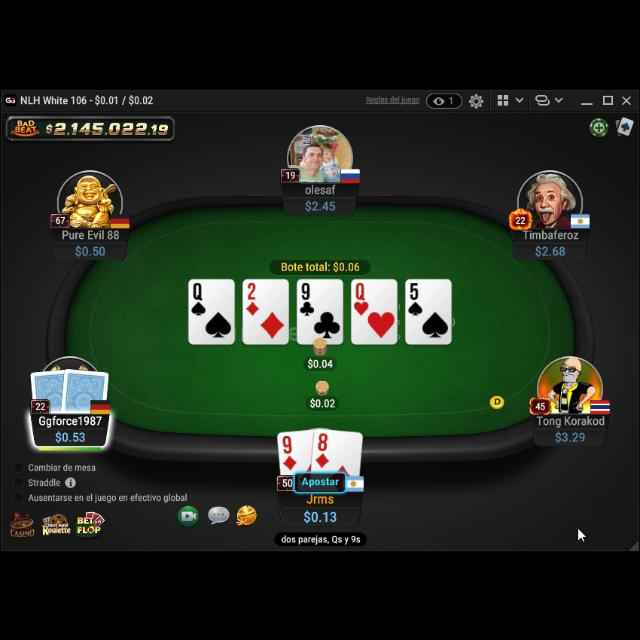2d: (244, 280, 260, 316)
5s: (406, 279, 424, 315), (406, 280, 424, 316)
6s: (406, 280, 424, 316)
8d: (314, 431, 332, 469)
9c: (299, 280, 315, 318)
9d: (280, 433, 298, 471)
Qh: (352, 279, 370, 315)
Qs: (190, 280, 208, 316)
bet_text: (307, 355, 333, 369), (309, 396, 337, 408)
card_back: (61, 364, 111, 418), (29, 366, 71, 414)
dealer: (487, 392, 507, 410)
pot_text: (281, 259, 361, 271)
stack_text: (302, 507, 338, 525), (54, 427, 86, 443), (304, 198, 338, 212), (535, 243, 567, 257), (554, 429, 586, 443), (74, 242, 106, 256)
